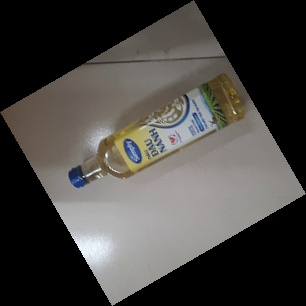Simply: (67, 73, 245, 192)
